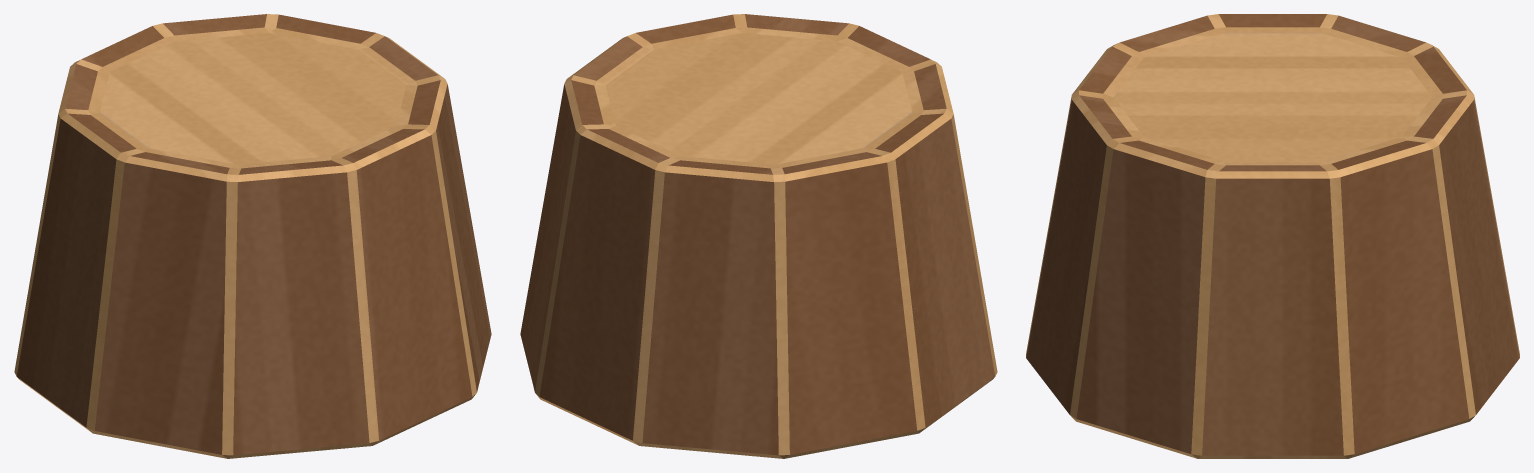
Rendered from sm_stump.glb.
3 views of the same model, side by side, from view 1: azimuth 30°, elevation 25°; view 2: azimuth 150°, elevation 25°; view 3: azimuth 270°, elevation 25° (orthographic).
Visible parts, largest first — view 1: sm_stump; view 2: sm_stump; view 3: sm_stump.
Boxes of the visible parts, x1,y1,x2,y2 form: sm_stump: (14, 14, 491, 458); sm_stump: (520, 14, 997, 458); sm_stump: (1026, 14, 1519, 458).
Size of the model in its own units: 0.7959 by 0.4983 by 0.8306.
Materials: 1 (1 with a texture image).
